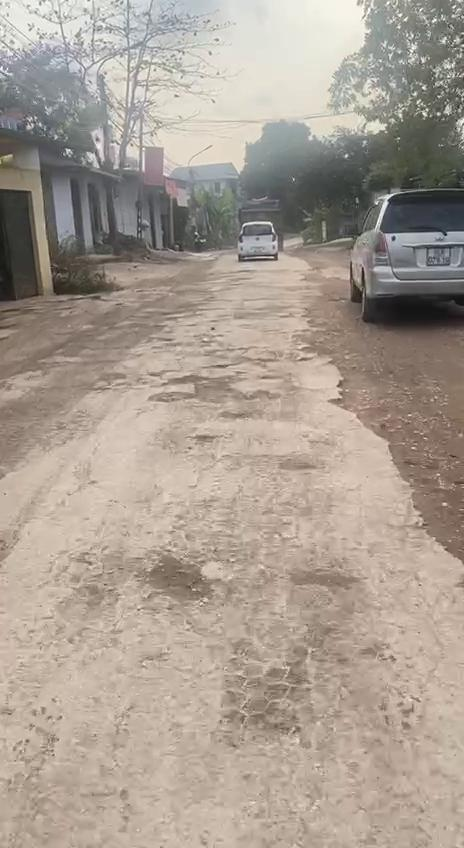pothole: (146, 372, 275, 406), (142, 556, 214, 603)
